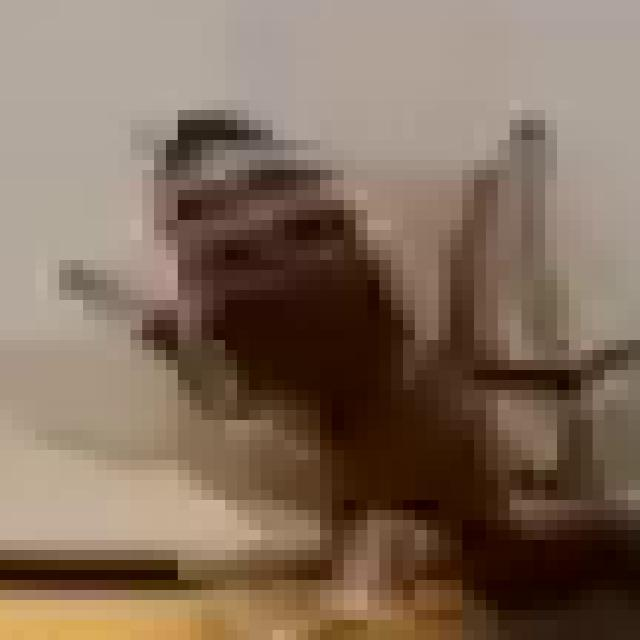honeybee: (89, 108, 612, 602)
